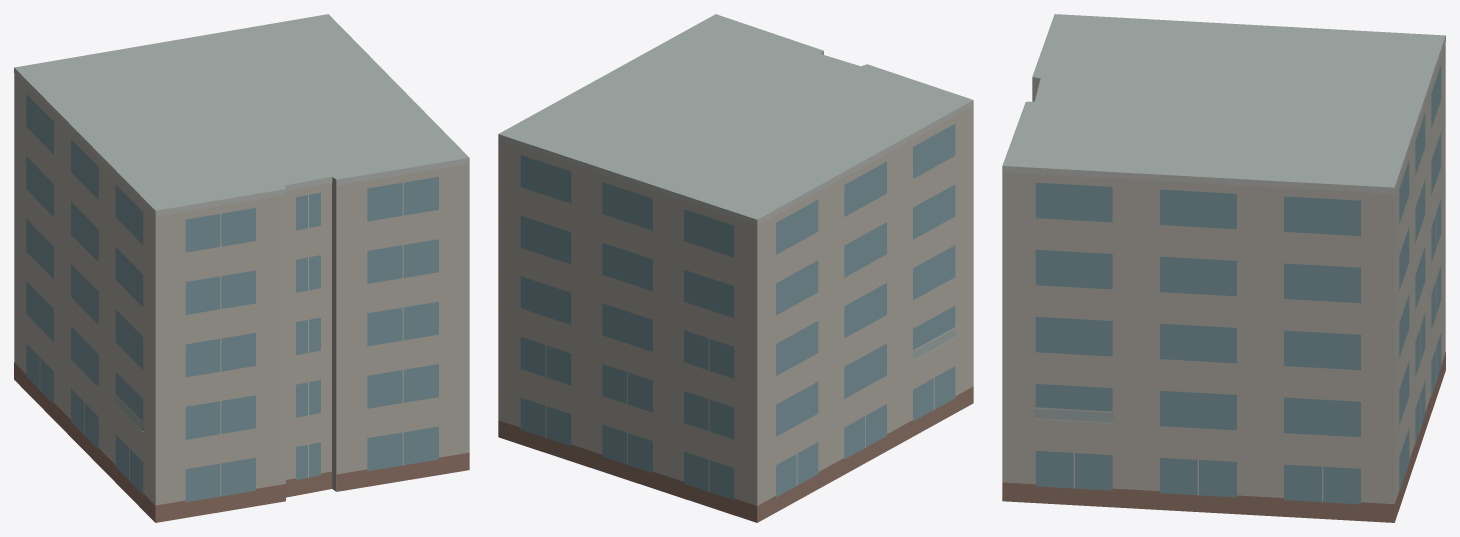
The model's file is survey-upis-32968875.glb.
3 views of the same model, side by side, from view 1: azimuth 30°, elevation 25°; view 2: azimuth 150°, elevation 25°; view 3: azimuth 270°, elevation 25° (orthographic). The views are drawn at different scales.
Parts seen in each view (by area): view 1: survey-upis-32968875.tmp; view 2: survey-upis-32968875.tmp; view 3: survey-upis-32968875.tmp.
Boxes of the visible parts, box(x1,y1,x2,y2) form: survey-upis-32968875.tmp: box(14, 14, 469, 522); survey-upis-32968875.tmp: box(498, 14, 973, 522); survey-upis-32968875.tmp: box(1002, 14, 1445, 522).
Bounding box in the file's own units: 14.34 × 12.9 × 15.47.
